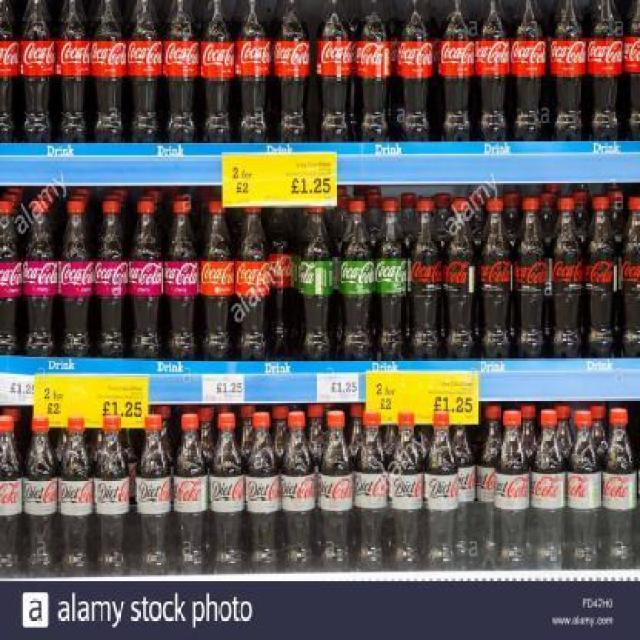Drinks: (335, 198, 373, 360), (530, 409, 568, 569), (492, 410, 530, 570), (513, 196, 550, 359), (94, 416, 131, 578), (59, 418, 96, 580), (549, 198, 586, 358), (477, 199, 514, 359), (163, 200, 200, 360), (127, 199, 164, 359), (173, 413, 209, 576), (407, 198, 443, 361), (373, 198, 409, 361), (234, 198, 270, 361), (199, 199, 235, 362), (424, 411, 460, 573), (354, 411, 390, 573), (318, 410, 354, 572), (280, 412, 316, 574), (245, 412, 281, 574), (209, 413, 245, 575), (137, 415, 173, 577), (24, 417, 60, 579), (441, 198, 477, 360), (601, 409, 637, 569), (389, 413, 425, 573), (58, 199, 94, 357), (23, 199, 59, 357), (546, 0, 586, 142), (298, 205, 334, 361), (586, 196, 620, 358), (93, 199, 127, 359), (395, 0, 433, 143), (315, 0, 353, 143), (272, 0, 310, 143), (437, 0, 475, 142), (355, 1, 393, 143), (568, 410, 602, 568), (236, 0, 273, 144), (585, 0, 623, 140), (164, 0, 201, 143), (126, 0, 163, 143), (57, 1, 94, 144), (19, 1, 56, 144), (200, 0, 236, 143), (91, 0, 127, 143), (475, 0, 511, 142), (511, 0, 547, 142), (270, 201, 298, 361), (0, 417, 23, 579), (1, 201, 24, 357)
